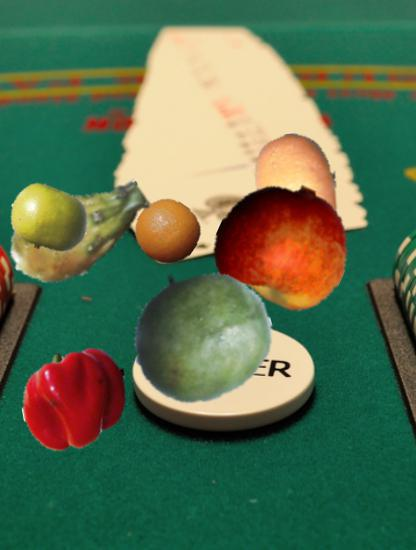Cactus: (4, 154, 154, 304)
Kumquats: (239, 133, 353, 247)
Mango: (131, 264, 273, 406)
Nectarine: (218, 176, 352, 310)
Orange: (135, 200, 200, 265)
Pepper: (21, 346, 129, 454)
Pomelo: (9, 179, 90, 260)
